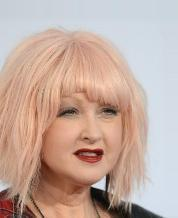face: (59, 102, 119, 164)
